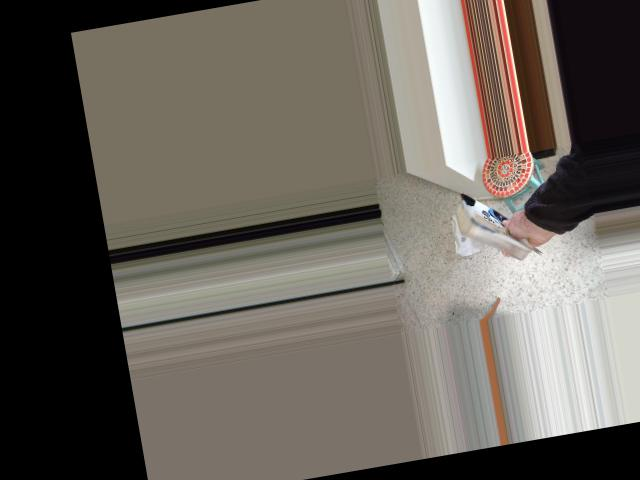cheese: (437, 168, 558, 281)
